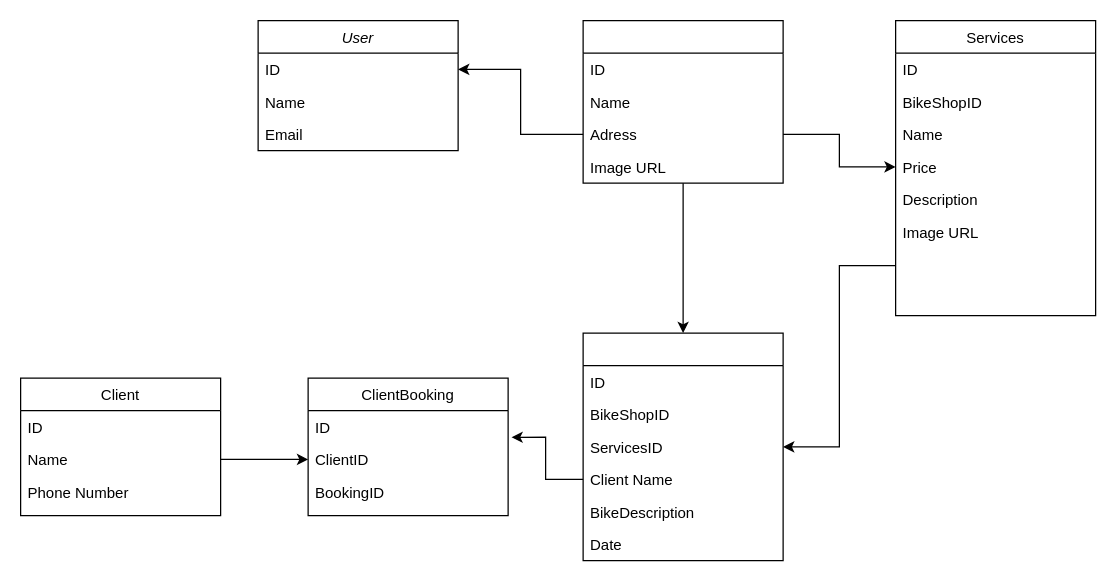
Some shapes in this 1116 by 581 pixel diagram are drawn without their labels. The box of each missing label's shape, as (x1, y1, x2, y2) in pixels:
Bike Shop: (582, 19, 783, 183)
Booking: (582, 332, 783, 561)
